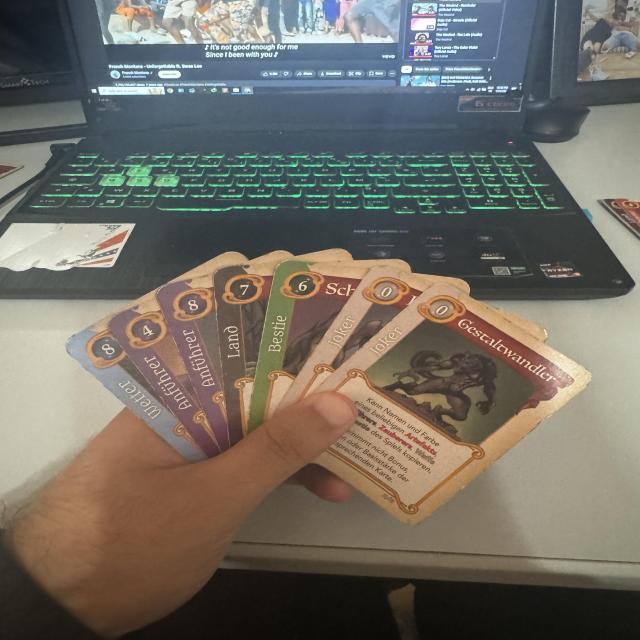Doppelganger: (272, 263, 434, 415)
Forest: (209, 263, 273, 447)
King: (152, 274, 231, 453)
Rainstorm: (60, 322, 207, 464)
Shapeshifter: (305, 278, 599, 529)
War Horse: (246, 258, 371, 435)
Warlord: (102, 298, 222, 458)
